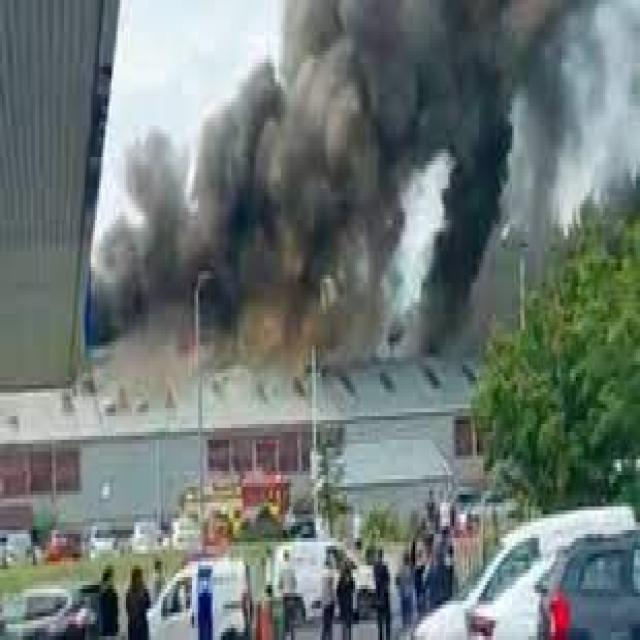smoke: (285, 4, 423, 365), (425, 4, 516, 353), (198, 4, 283, 369), (516, 4, 640, 216), (87, 134, 196, 346)
